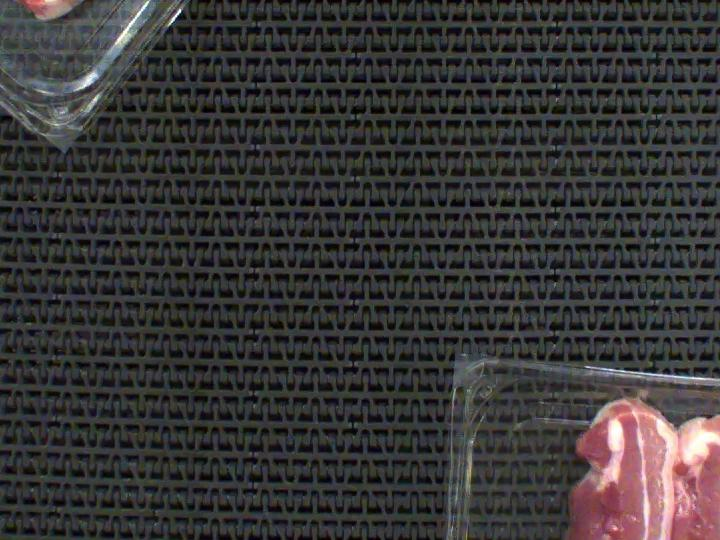packaging-error: (603, 377, 657, 410)
